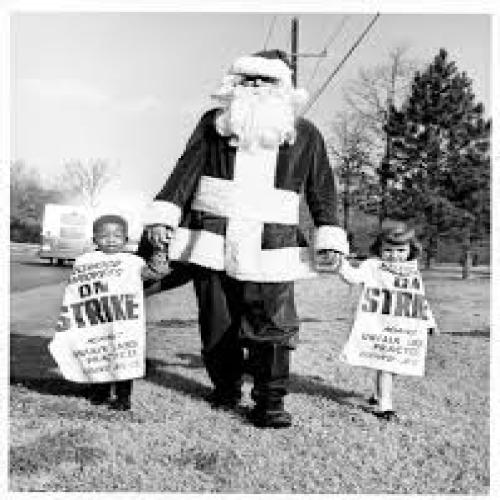Santa: (139, 49, 350, 429)
